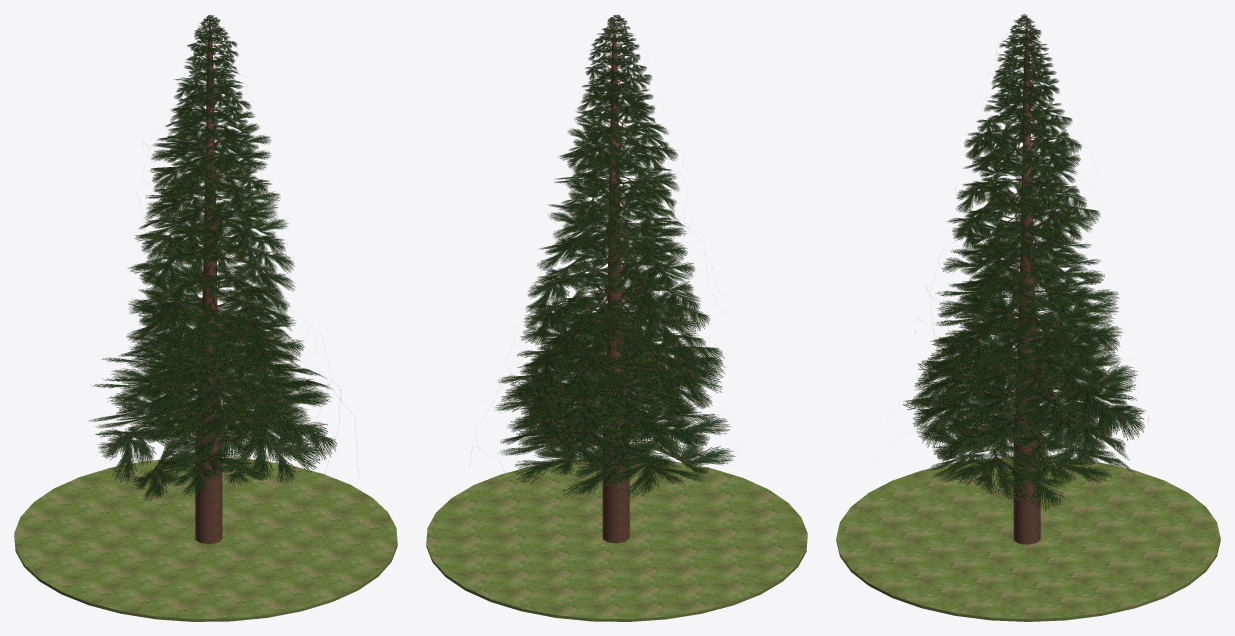
The model's file is arbol2.glb.
The picture shows the model from 3 angles, left to right: view 1: azimuth 30°, elevation 25°; view 2: azimuth 150°, elevation 25°; view 3: azimuth 270°, elevation 25°; orthographic projection.
Visible parts, largest first — view 1: HojasArbol, Cylinder, Pino; view 2: HojasArbol, Cylinder, Pino; view 3: HojasArbol, Cylinder, Pino.
Part boxes in pixels (bbox=[...]): HojasArbol: bbox=[88, 15, 340, 501]; Cylinder: bbox=[14, 457, 397, 621]; Pino: bbox=[195, 16, 222, 543]; HojasArbol: bbox=[494, 14, 735, 497]; Cylinder: bbox=[426, 458, 807, 621]; Pino: bbox=[602, 16, 629, 543]; HojasArbol: bbox=[903, 14, 1148, 511]; Cylinder: bbox=[836, 457, 1220, 621]; Pino: bbox=[1013, 16, 1040, 544].
Bounding box in the file's own units: 13.2 × 19.97 × 13.2.
3 materials, 3 textured.
